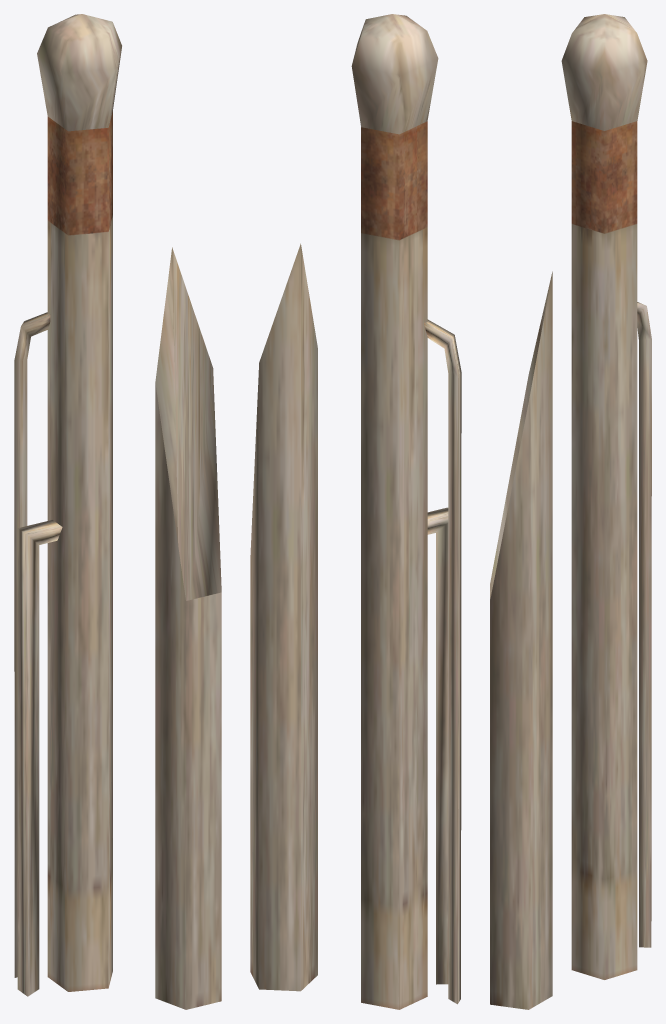
File: thm_tato_debris_s02_l2.fbx
3 views of the same model, side by side, from view 1: azimuth 30°, elevation 25°; view 2: azimuth 210°, elevation 25°; view 3: azimuth 270°, elevation 25° (orthographic). The views are drawn at different scales.
Parts seen in each view (by area): view 1: mesh_node; view 2: mesh_node; view 3: mesh_node.
Boxes of the visible parts, bbox=[...] form: mesh_node: bbox=[14, 14, 221, 1009]; mesh_node: bbox=[250, 14, 461, 1009]; mesh_node: bbox=[490, 14, 651, 1009].
Bounding box in the file's own units: 0.6941 × 4.22 × 0.6493.
